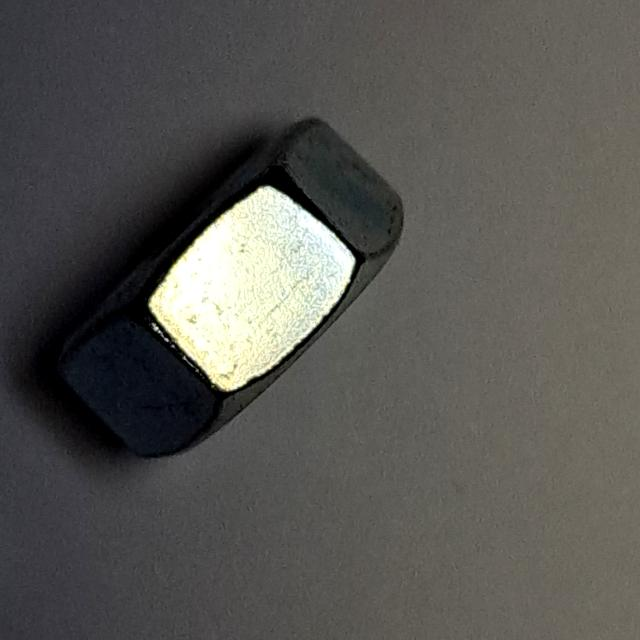Side_Excellent: (32, 87, 420, 481)
